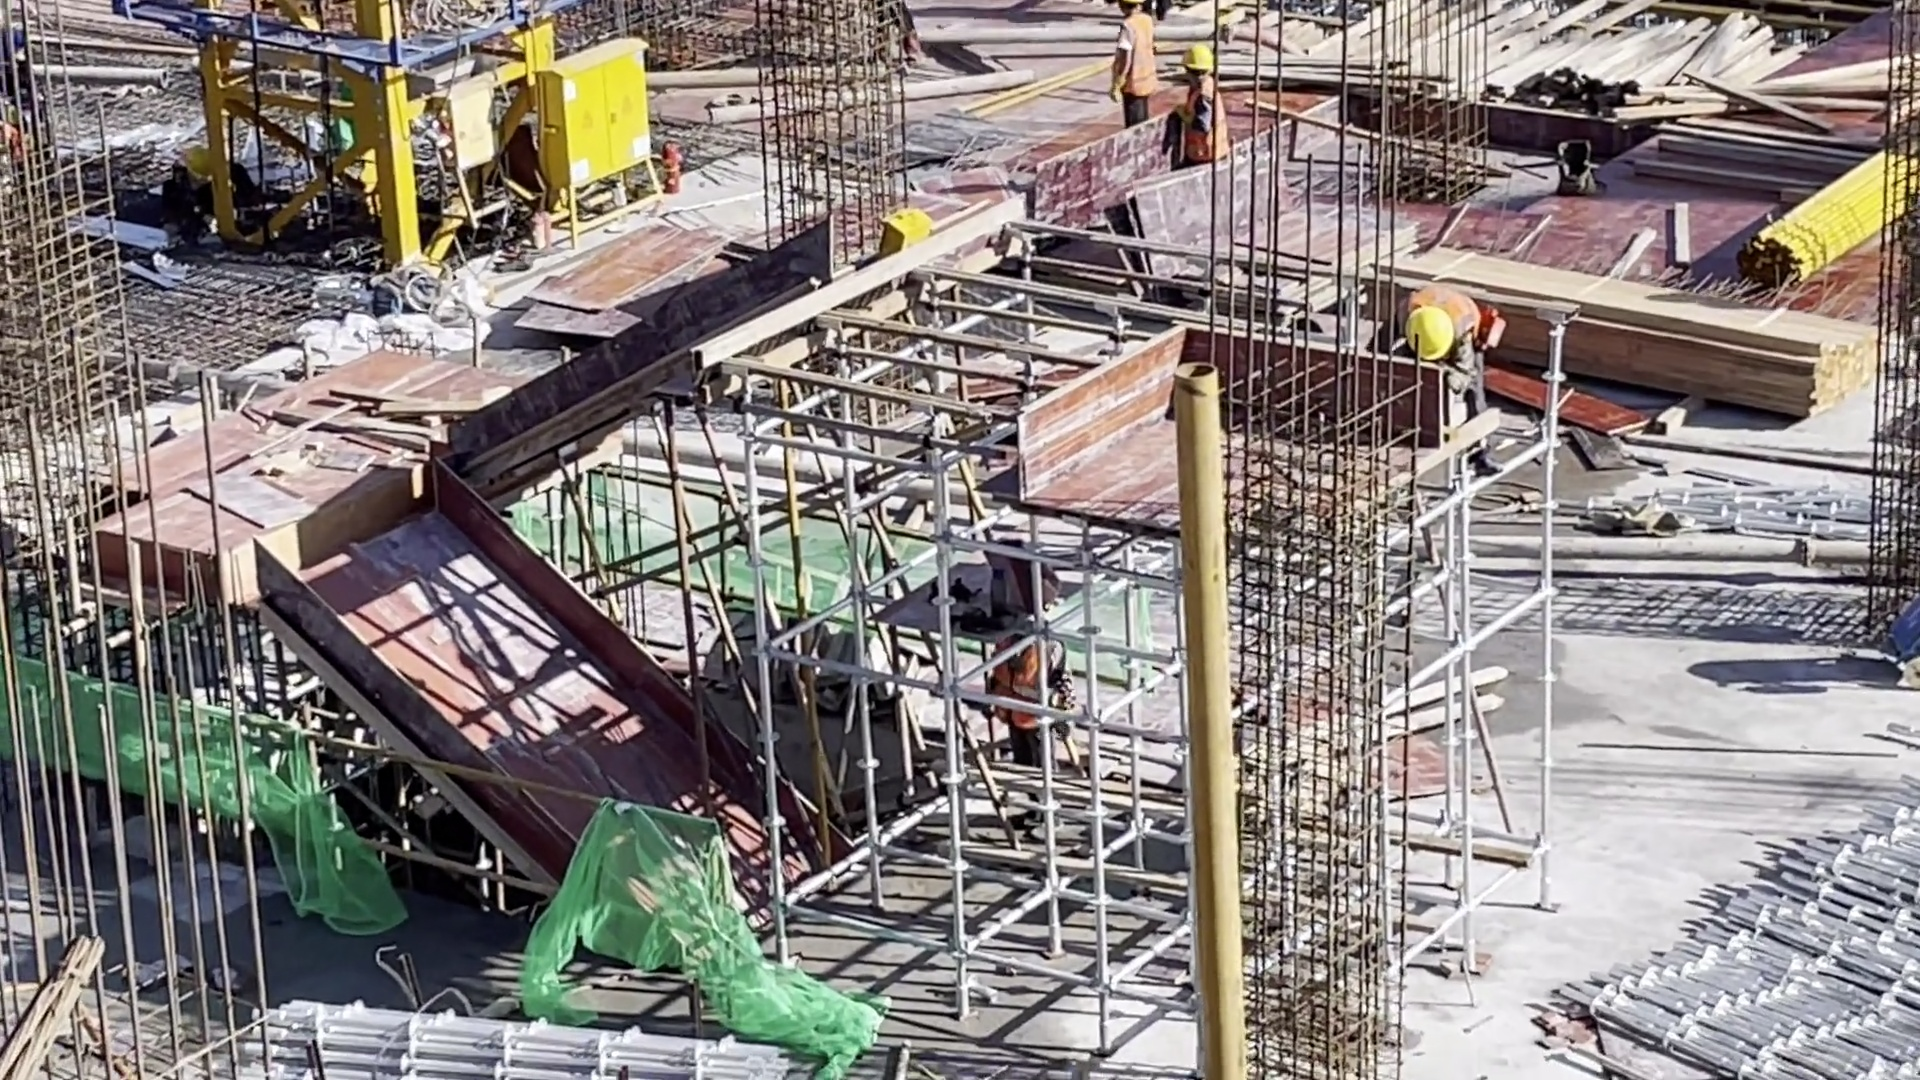ebox: (535, 38, 664, 248)
helmet: (1402, 306, 1454, 356), (181, 145, 217, 187), (1180, 43, 1210, 72)
person: (1366, 279, 1512, 483), (988, 643, 1084, 779), (158, 142, 273, 246), (1175, 42, 1225, 171), (1110, 5, 1160, 128)
scaffold: (1555, 770, 1920, 1077), (237, 990, 812, 1080)
vest: (996, 646, 1043, 727), (1114, 21, 1159, 99), (1407, 284, 1481, 327), (1183, 79, 1222, 160)
wood: (1370, 240, 1881, 416)
